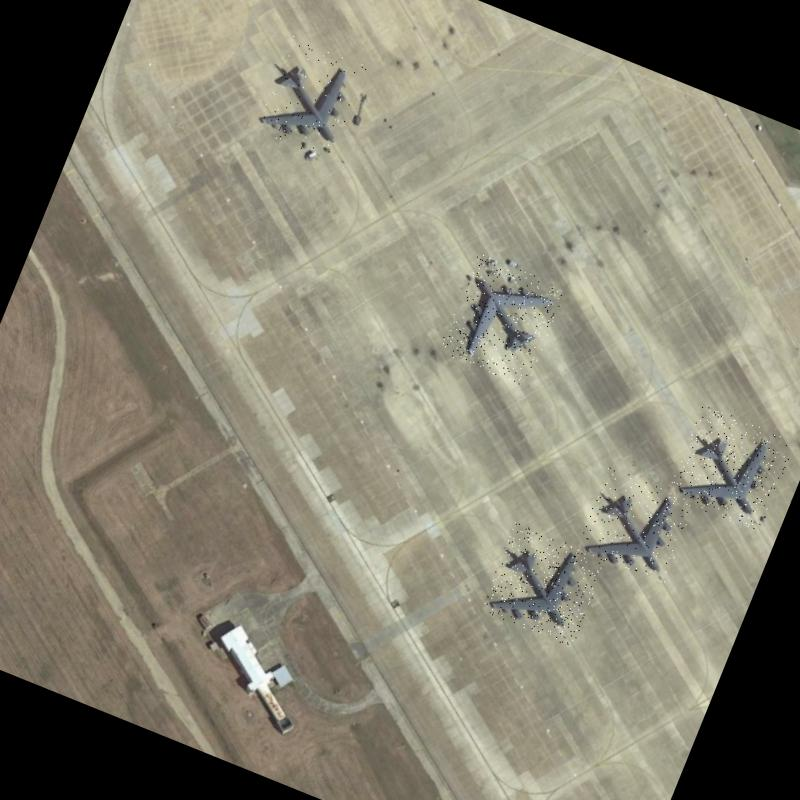A8: (437, 252, 566, 387), (665, 404, 796, 533), (480, 522, 607, 648), (248, 32, 367, 160), (574, 466, 697, 584)
